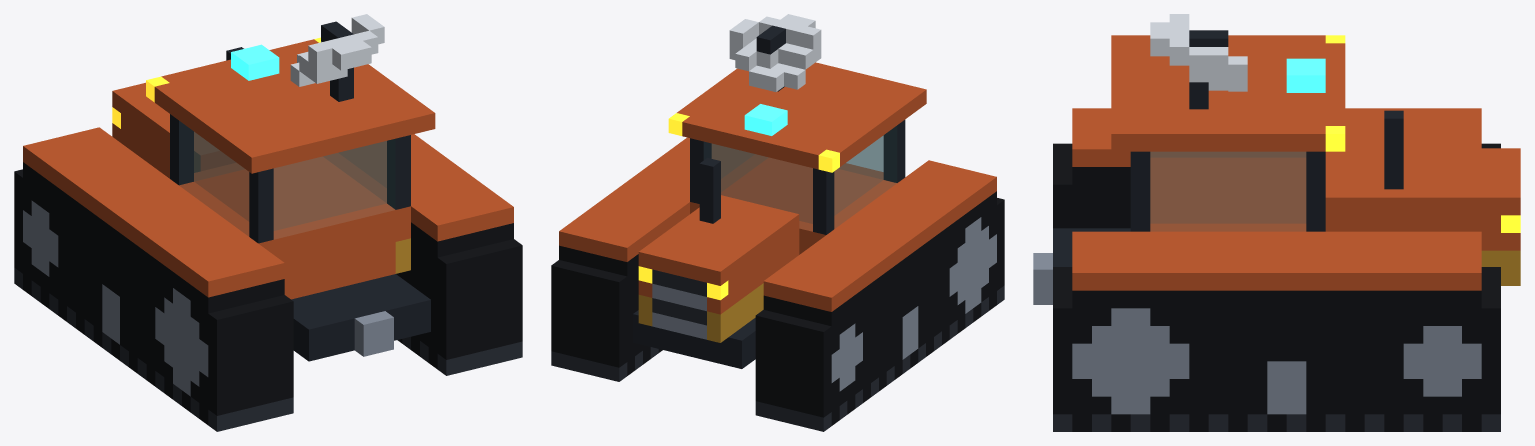
The model's file is tractor_wide.glb.
The picture shows the model from 3 angles, left to right: view 1: azimuth 30°, elevation 25°; view 2: azimuth 150°, elevation 25°; view 3: azimuth 270°, elevation 25°; orthographic projection. The views are drawn at different scales.
Parts seen in each view (by area): view 1: body, wheels, glass, emit_beacon; view 2: body, wheels, glass, emit_beacon, emit_roof_lights, emit_headlights; view 3: body, wheels, glass, emit_beacon, emit_roof_lights.
Boxes of the visible parts, bbox=[...] form: body: bbox=[23, 14, 513, 361]; wheels: bbox=[14, 162, 522, 431]; glass: bbox=[179, 121, 395, 239]; emit_beacon: bbox=[231, 44, 279, 80]; body: bbox=[559, 14, 996, 368]; wheels: bbox=[551, 191, 1004, 431]; glass: bbox=[704, 126, 896, 231]; emit_beacon: bbox=[744, 104, 787, 135]; emit_roof_lights: bbox=[668, 113, 839, 172]; emit_headlights: bbox=[638, 266, 728, 300]; body: bbox=[1033, 14, 1520, 304]; wheels: bbox=[1053, 143, 1500, 431]; glass: bbox=[1150, 151, 1306, 231]; emit_beacon: bbox=[1286, 58, 1325, 92]; emit_roof_lights: bbox=[1325, 35, 1345, 151].
Bounding box in the file's own units: 20 × 19 × 25.
